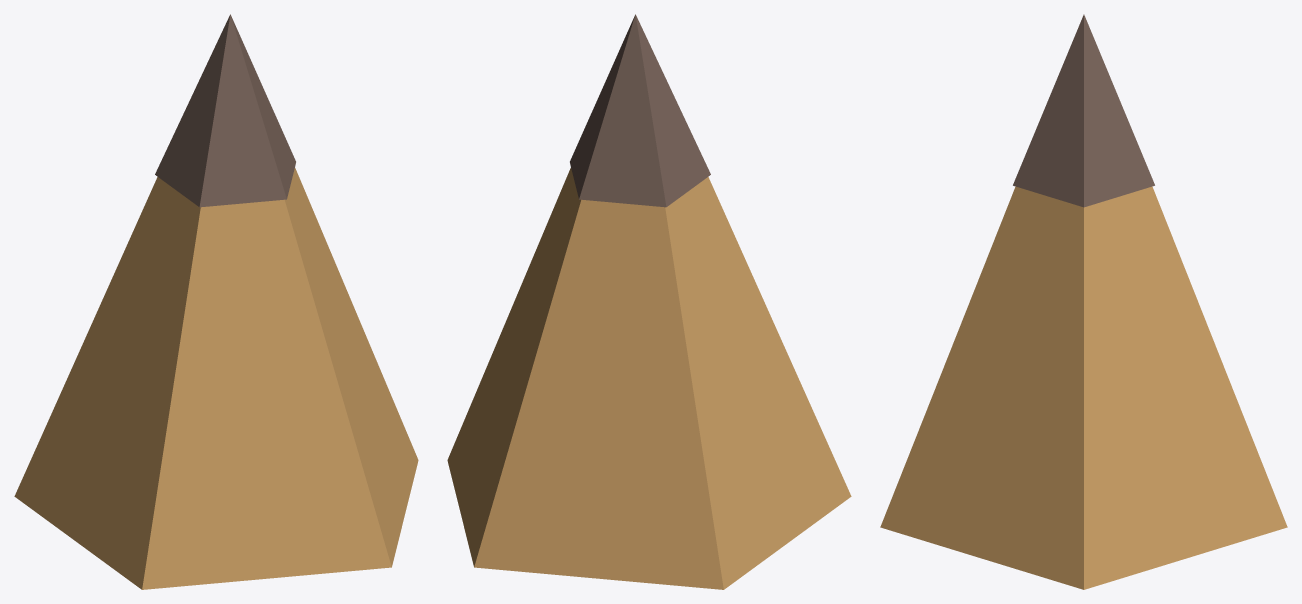
Rendered from companion_ear.glb.
3 renders of one model, left to right at view 1: azimuth 30°, elevation 25°; view 2: azimuth 150°, elevation 25°; view 3: azimuth 270°, elevation 25°, orthographic.
Visible parts, largest first — view 1: companion_ear; view 2: companion_ear; view 3: companion_ear.
Boxes of the visible parts, box(x1,y1,x2,y2) form: companion_ear: box(14, 14, 418, 589); companion_ear: box(447, 14, 851, 589); companion_ear: box(880, 14, 1287, 589).
Bounding box in the file's own units: 0.1085 × 0.15 × 0.1141.
